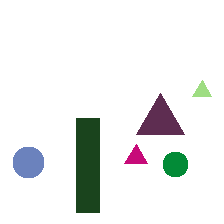circle: (13, 147, 43, 177), (163, 152, 187, 176)
rectangle: (76, 118, 99, 212)
triangle: (136, 93, 184, 134), (124, 144, 147, 163), (192, 80, 211, 96)
